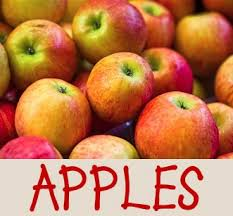apple: (138, 96, 218, 158), (18, 81, 88, 142), (3, 24, 79, 76), (89, 60, 157, 112), (75, 3, 144, 49), (139, 46, 200, 92), (176, 11, 233, 60)
